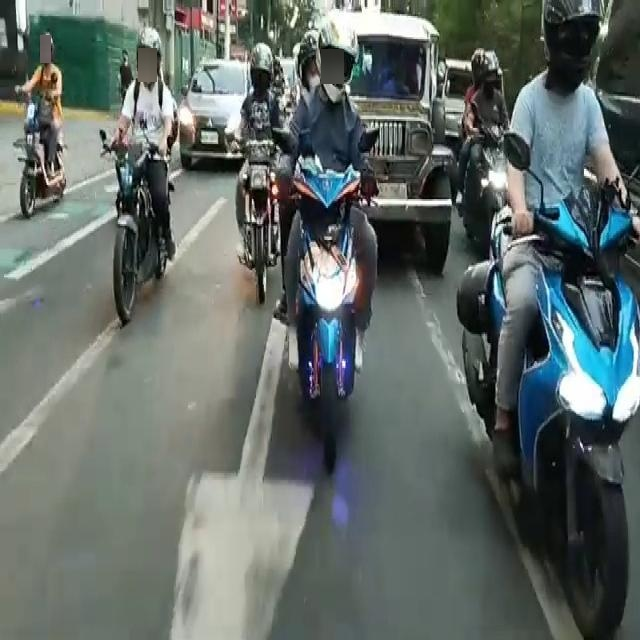car: (183, 61, 243, 159)
jeepney: (349, 18, 445, 273)
motorcycle: (526, 31, 614, 567), (306, 51, 370, 462), (115, 33, 167, 323), (237, 68, 285, 337), (467, 65, 511, 260), (19, 51, 63, 225)
